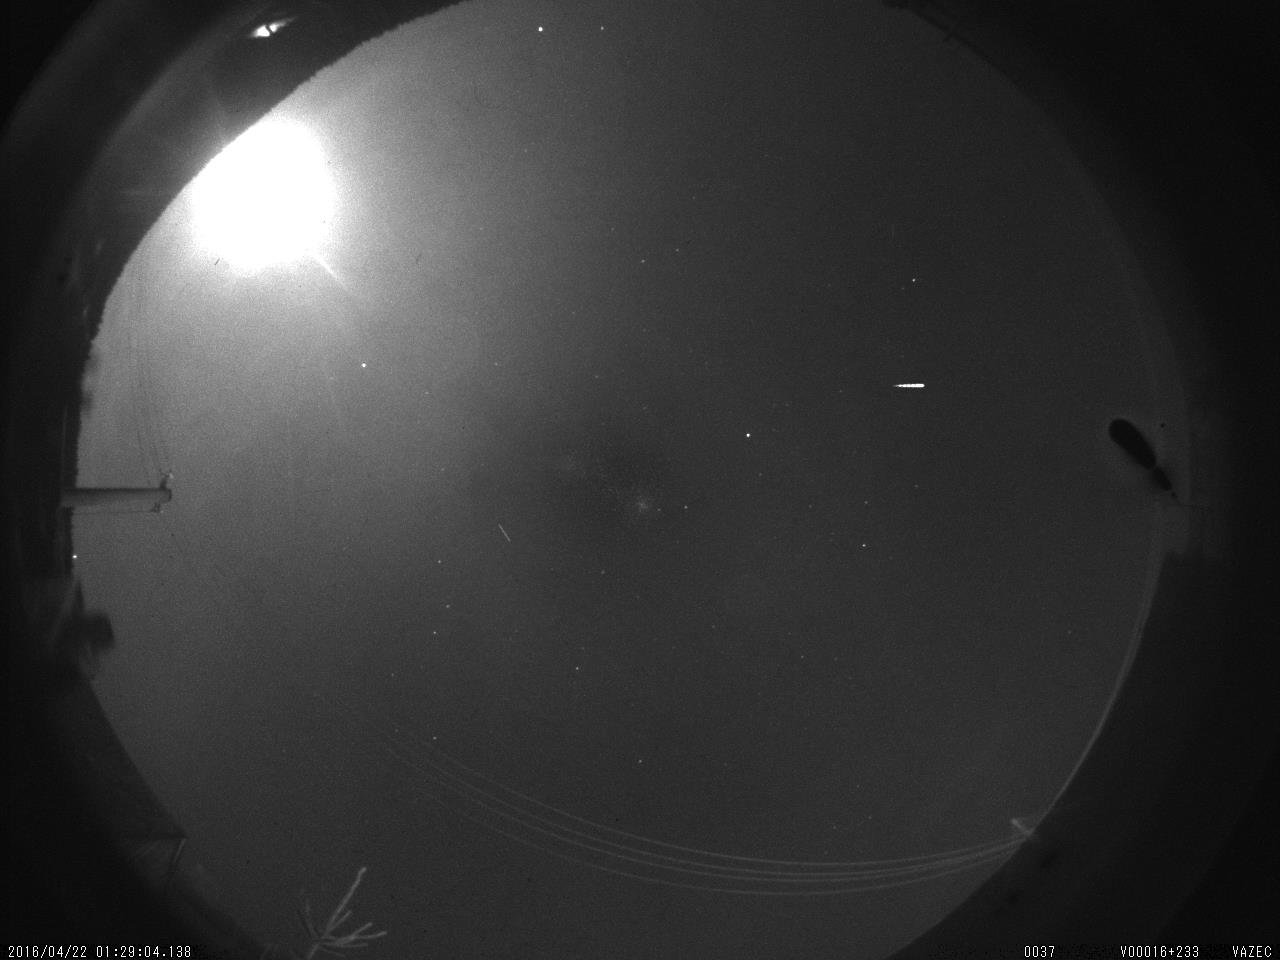meteor: (879, 362, 942, 405)
